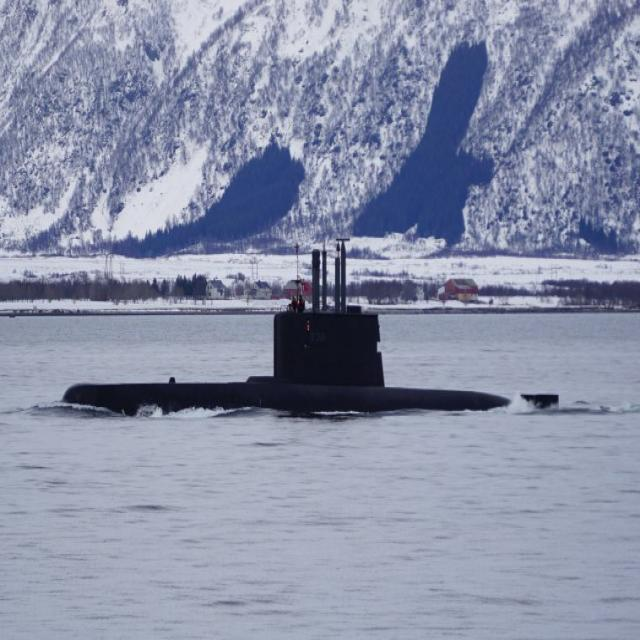submarine: (68, 230, 572, 416)
